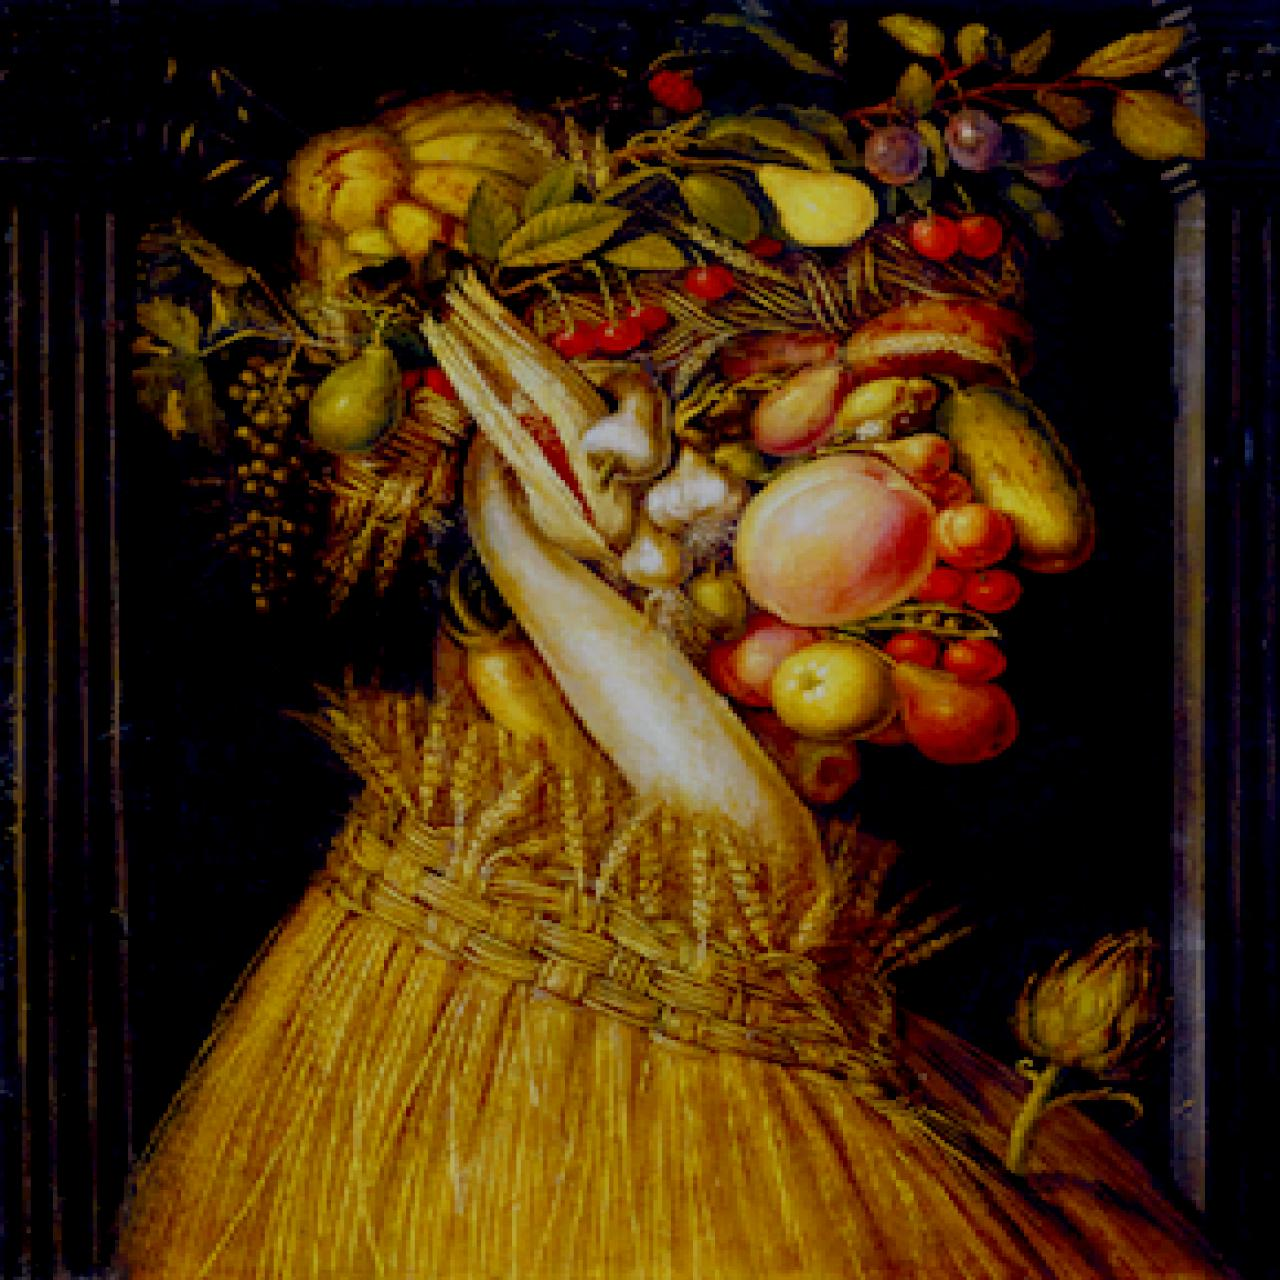Summer: (1, 1, 1276, 1278)
